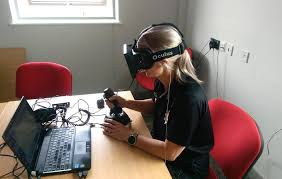oculus: (121, 41, 188, 79)
